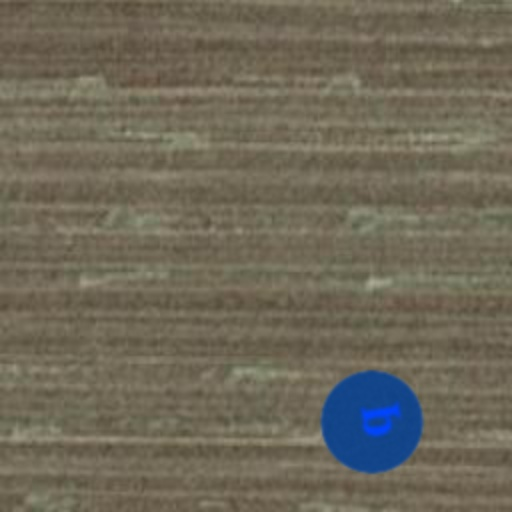circle: (312, 362, 432, 482)
